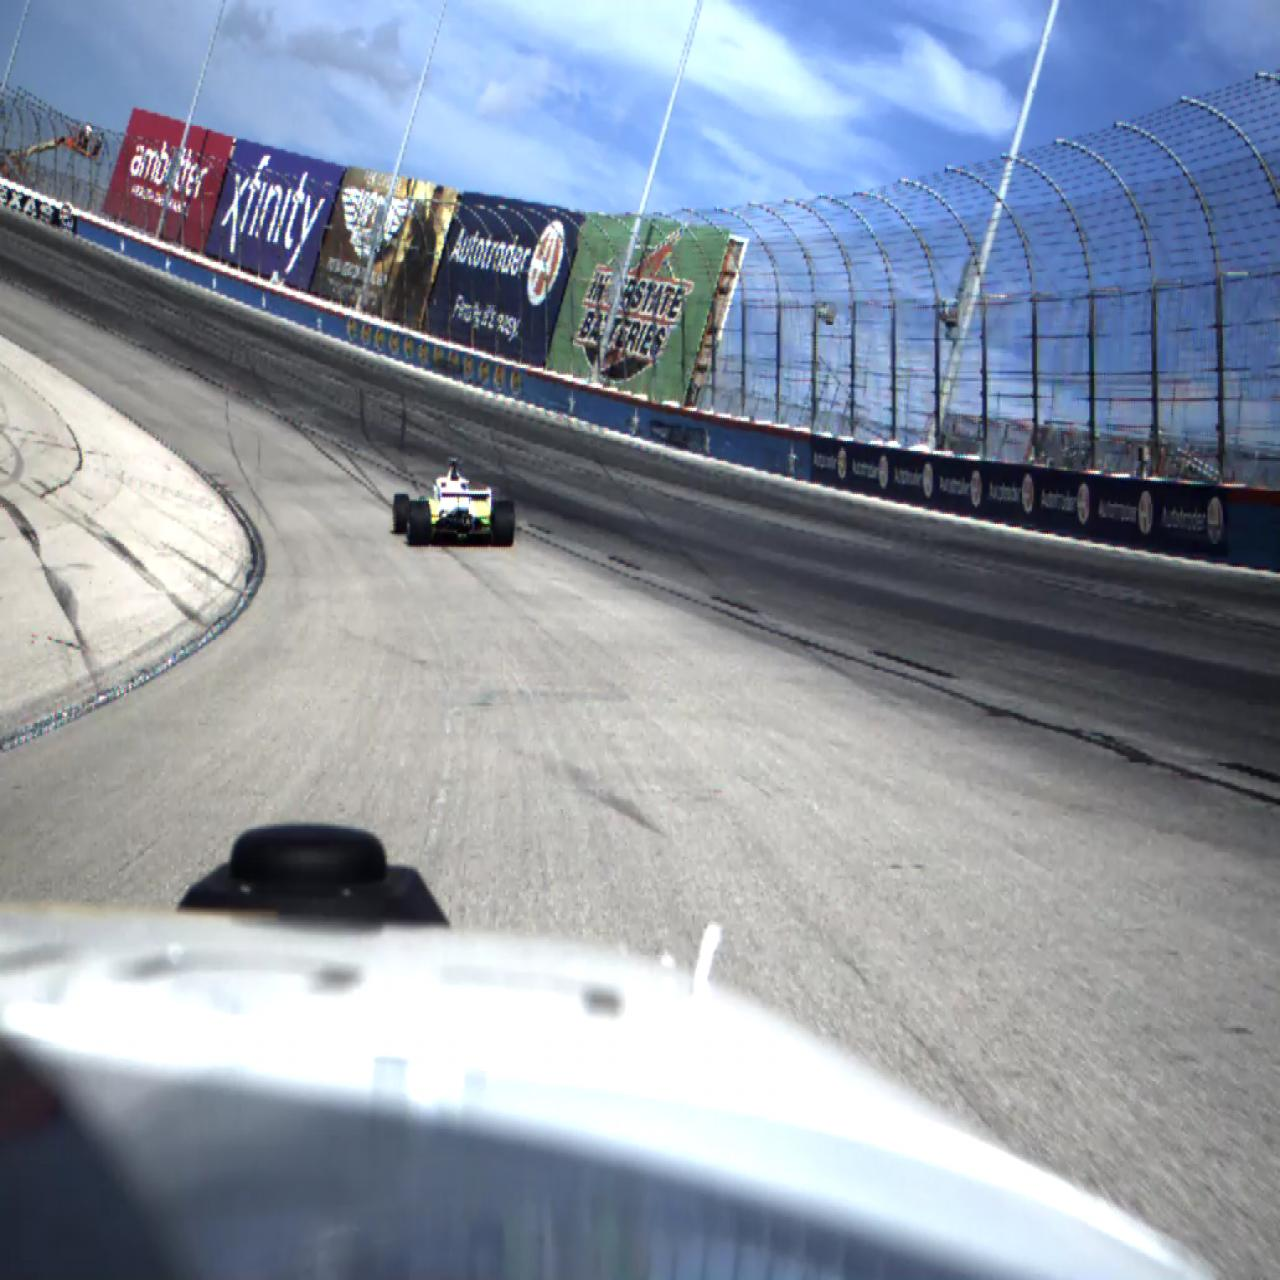AV: (393, 457, 516, 549)
Wheel: (407, 502, 430, 546), (492, 501, 515, 547), (393, 492, 409, 535)
